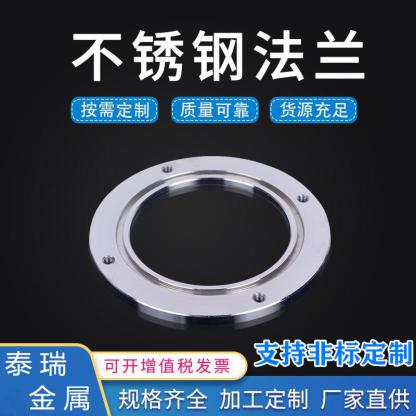FOD: (84, 152, 336, 332)
